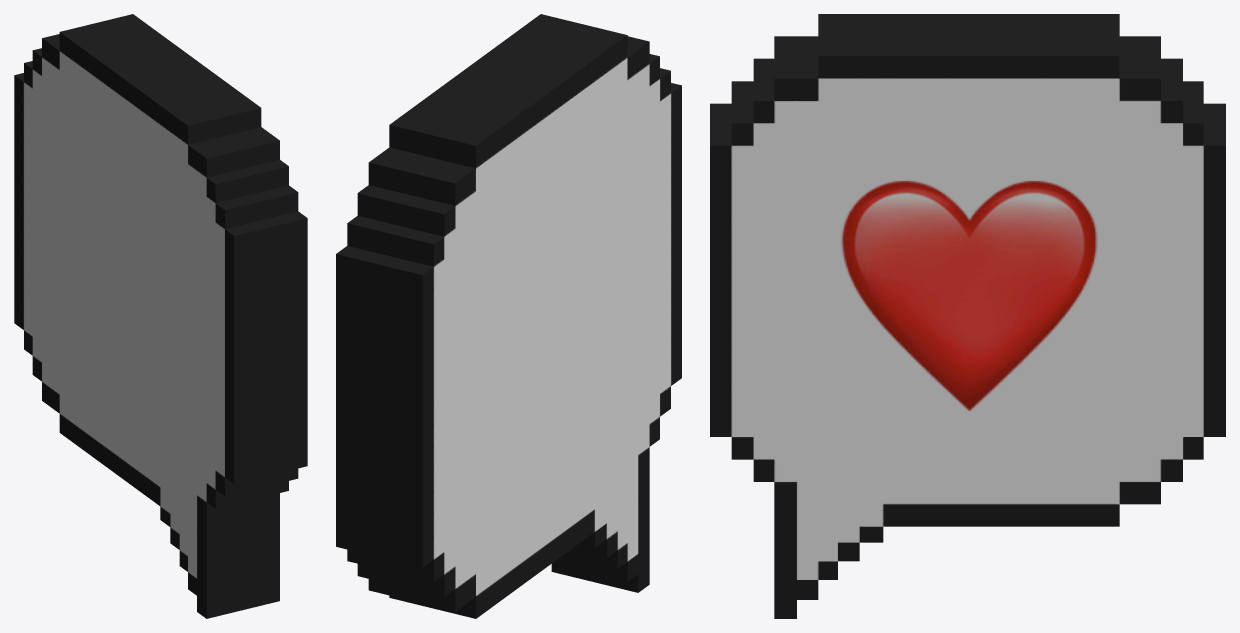
The model's file is heart_speech.glb.
The picture shows the model from 3 angles, left to right: view 1: azimuth 30°, elevation 25°; view 2: azimuth 150°, elevation 25°; view 3: azimuth 270°, elevation 25°; orthographic projection. The views are drawn at different scales.
Parts seen in each view (by area): view 1: Pixel_Speech_Bubbles_v4_001; view 2: Pixel_Speech_Bubbles_v4_001; view 3: Pixel_Speech_Bubbles_v4_001.
Part boxes in pixels (<box>): Pixel_Speech_Bubbles_v4_001: <box>14,14,307,618</box>; Pixel_Speech_Bubbles_v4_001: <box>336,14,681,618</box>; Pixel_Speech_Bubbles_v4_001: <box>710,14,1225,618</box>.
Size of the model in its own units: 0.00854 by 0.0532 by 0.0442.
1 material, 1 textured.
